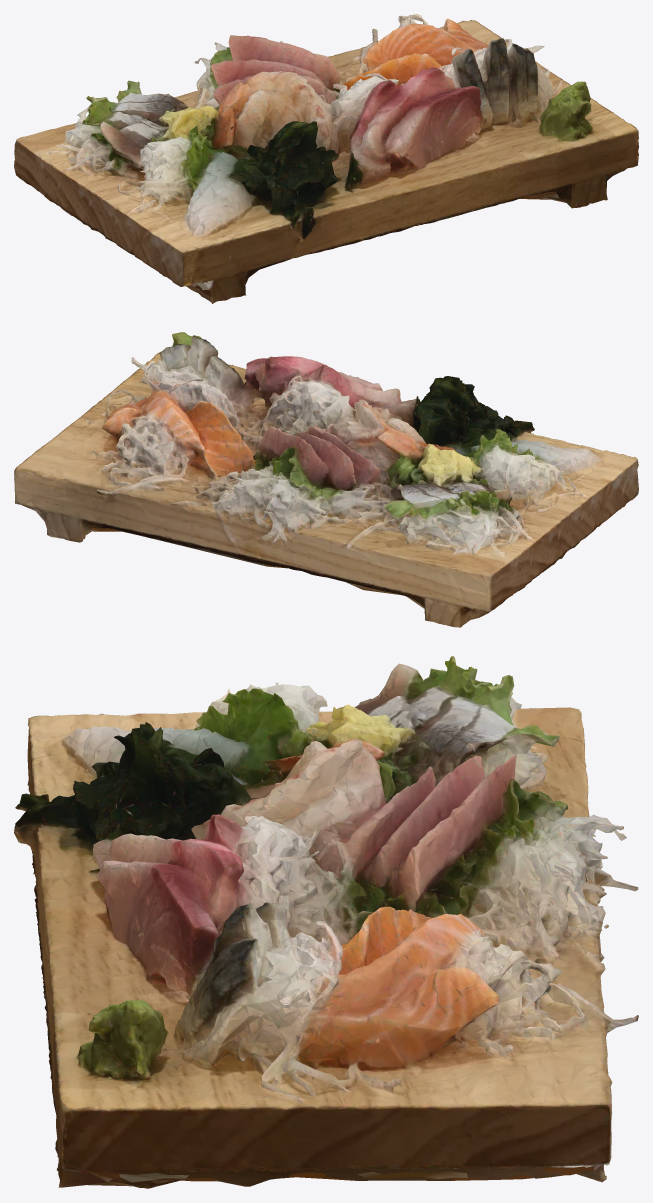
Rendered from sashimi.glb.
The picture shows the model from 3 angles, top to bottom: view 1: azimuth 30°, elevation 25°; view 2: azimuth 150°, elevation 25°; view 3: azimuth 270°, elevation 25°; orthographic projection. The views are drawn at different scales.
Parts seen in each view (by area): view 1: model_tex_u1_v1_0; view 2: model_tex_u1_v1_0; view 3: model_tex_u1_v1_0.
Part boxes in pixels (<box>): model_tex_u1_v1_0: <box>14,14,638,303</box>; model_tex_u1_v1_0: <box>14,332,638,627</box>; model_tex_u1_v1_0: <box>14,656,638,1188</box>.
Size of the model in its own units: 0.3308 by 0.0896 by 0.215.
Materials: 1 (1 with a texture image).
